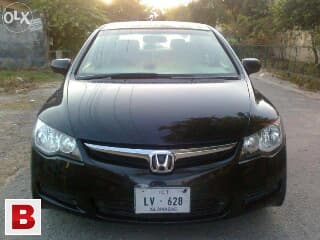plate: (130, 185, 193, 215)
